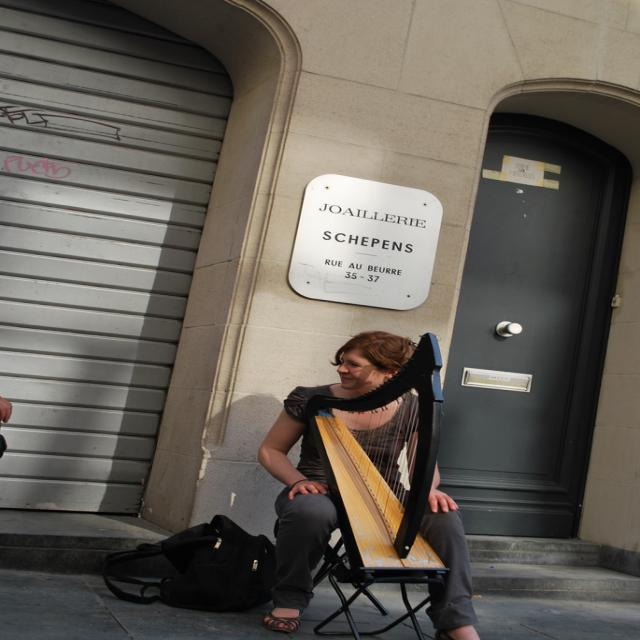harp: (292, 332, 460, 591)
